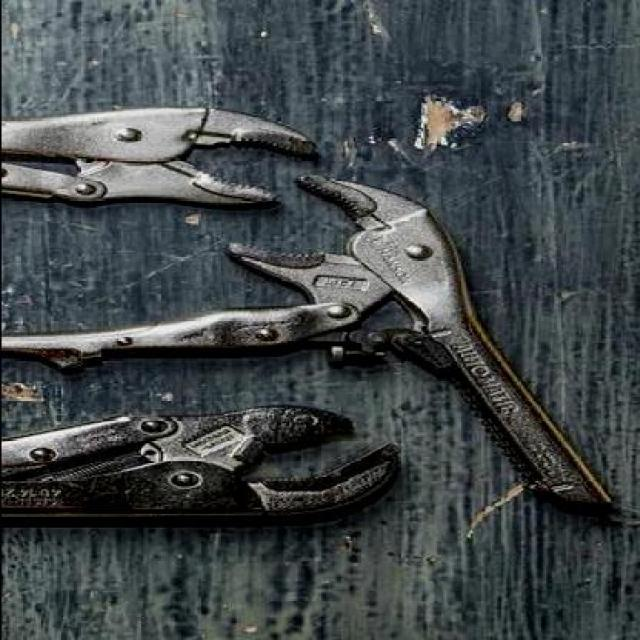pliers: (0, 405, 398, 525)
